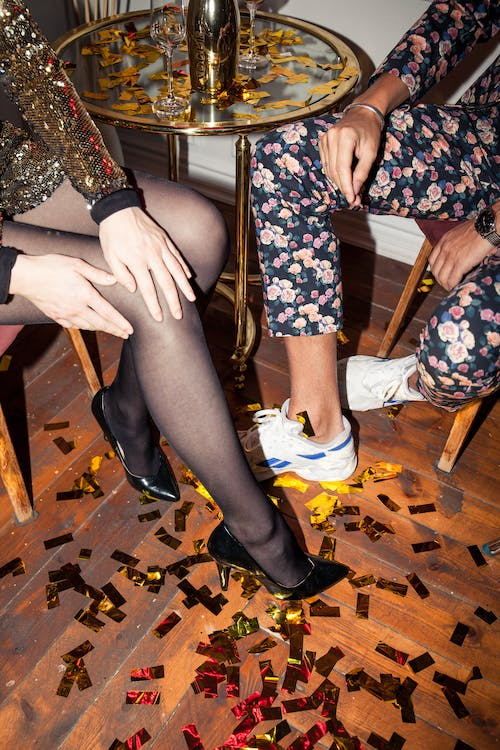alcohol: (185, 0, 241, 97), (147, 0, 193, 118), (239, 0, 271, 69)
